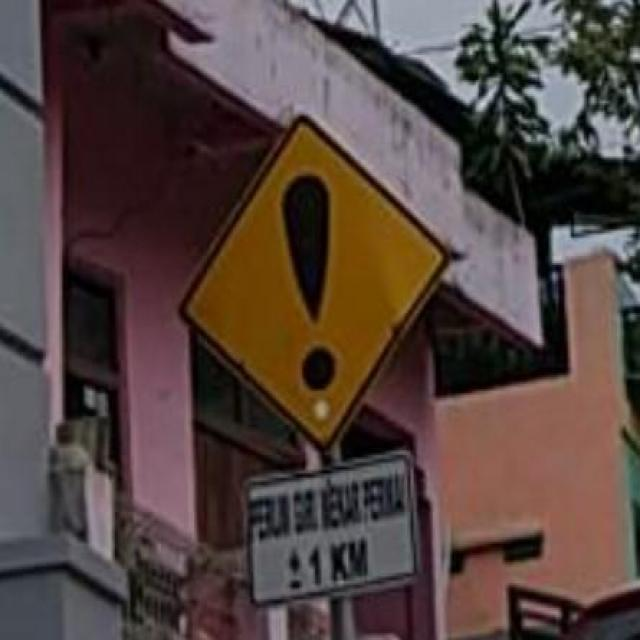traffic sign: (180, 114, 446, 448)
